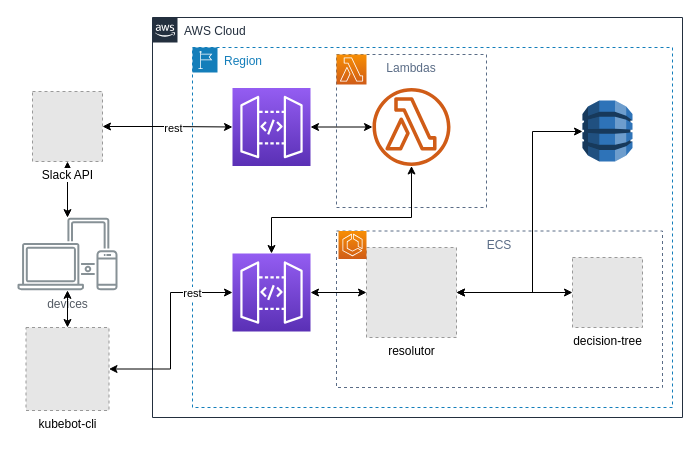
This 700x449 diagram has some shape labels left out. Grey dashed boxes stand in for pictures. Here are the shapes that lost their labels. From the top down, the centre of each, then its label:
At (x=271, y=126): "API Procesor".
At (x=411, y=127): "message-processor".
At (x=607, y=131): "conversation-state".
At (x=271, y=292): "API Resolutor".
